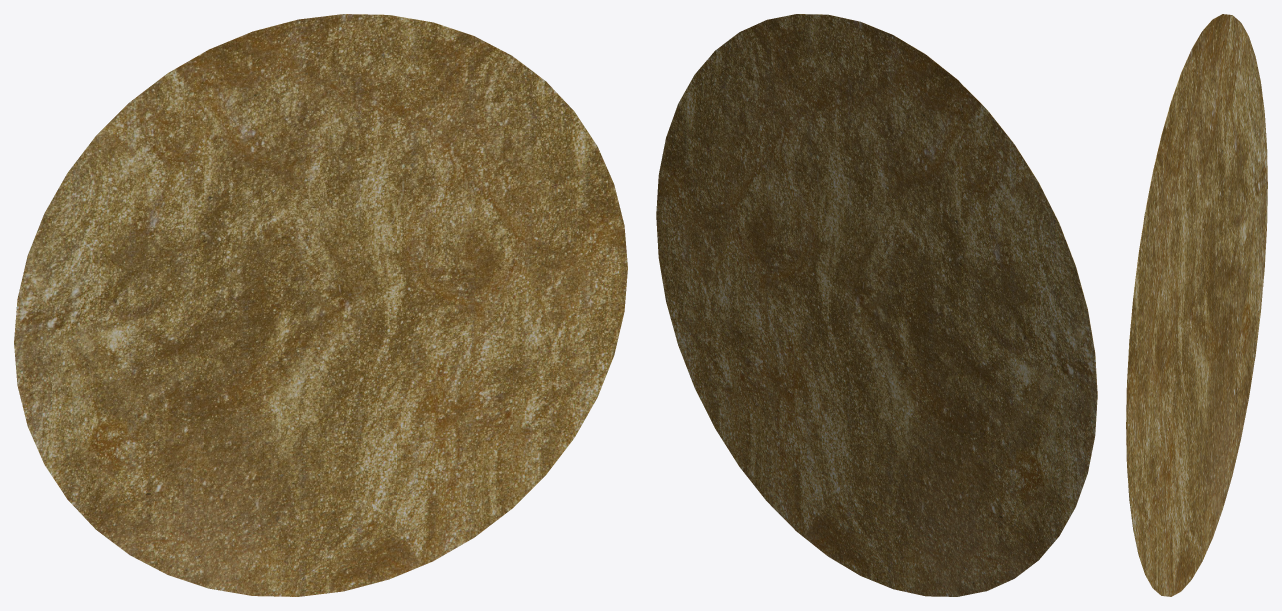
Rendered from circulo2.glb.
3 views of the same model, side by side, from view 1: azimuth 30°, elevation 25°; view 2: azimuth 150°, elevation 25°; view 3: azimuth 270°, elevation 25° (orthographic). The views are drawn at different scales.
Visible parts, largest first — view 1: Circle; view 2: Circle; view 3: Circle.
Boxes of the visible parts, bbox=[...] form: Circle: bbox=[14, 14, 627, 596]; Circle: bbox=[656, 14, 1097, 596]; Circle: bbox=[1126, 14, 1267, 596].
Size of the model in its own units: 1.94 by 1.99 by 0.4833.
Materials: 1 (1 with a texture image).
